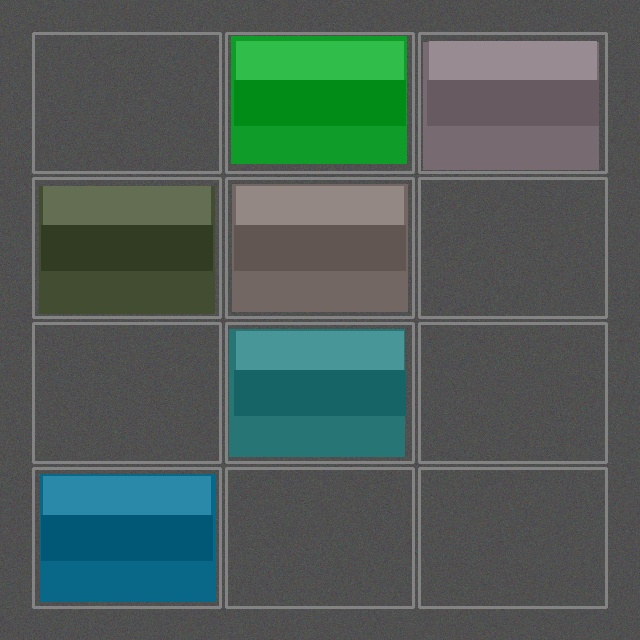space-empty: (35, 35, 218, 170), (421, 180, 604, 315), (35, 325, 218, 460), (421, 325, 604, 460), (228, 470, 411, 605), (421, 470, 604, 605)
space-occupied: (228, 35, 411, 170), (421, 35, 604, 170), (35, 180, 218, 315), (228, 180, 411, 315), (228, 325, 411, 460), (35, 470, 218, 605)
